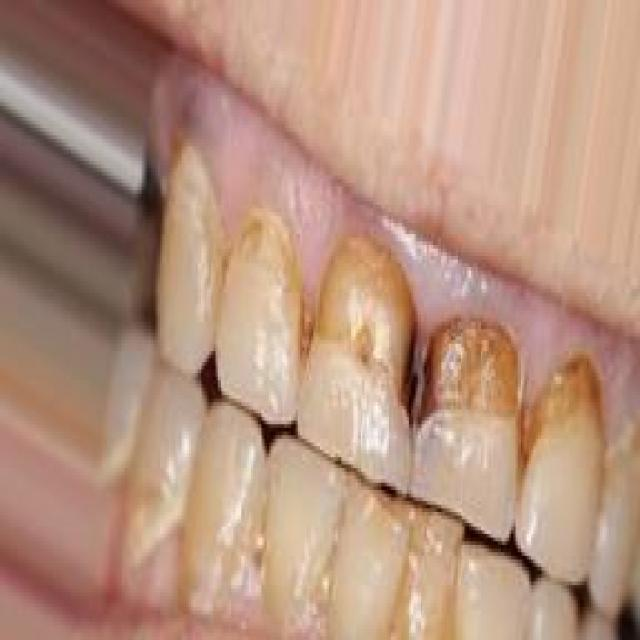caries: (306, 230, 422, 415), (414, 310, 516, 448), (521, 345, 599, 472)
